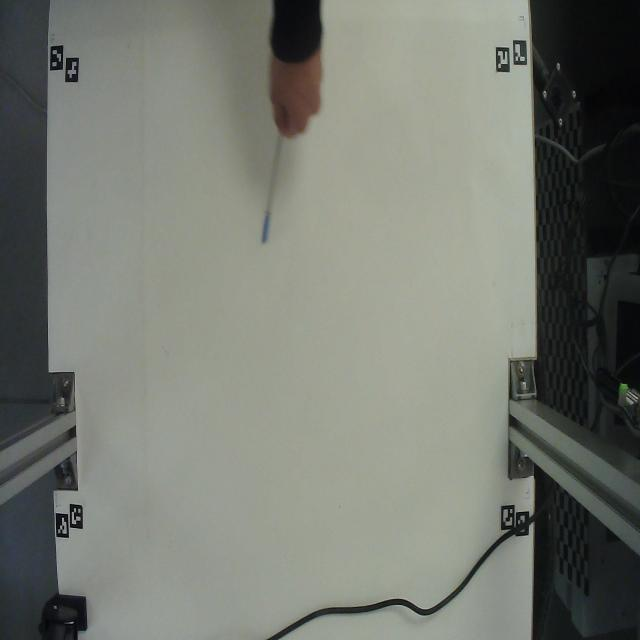NoPres: (242, 111, 314, 284)
